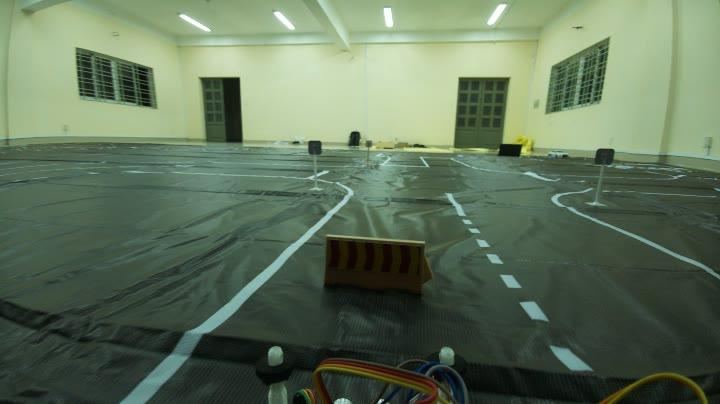roadblock: (318, 229, 437, 304)
